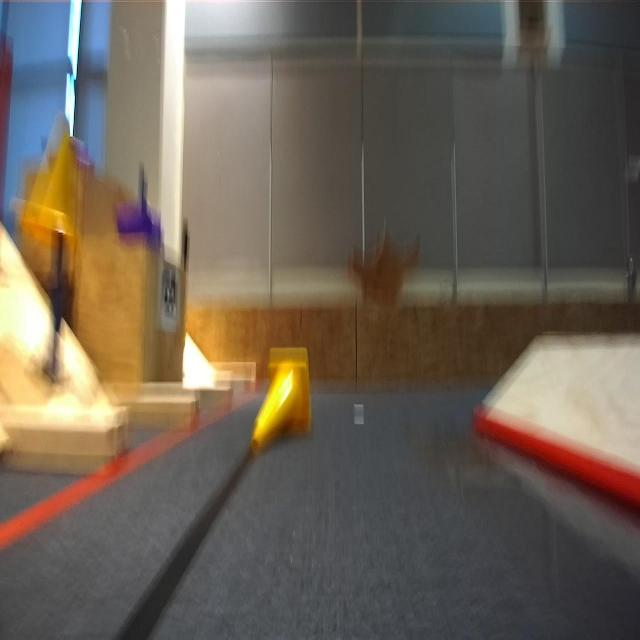frc_cone: (246, 348, 312, 459), (24, 114, 78, 236)
frc_cube: (112, 201, 160, 241)
